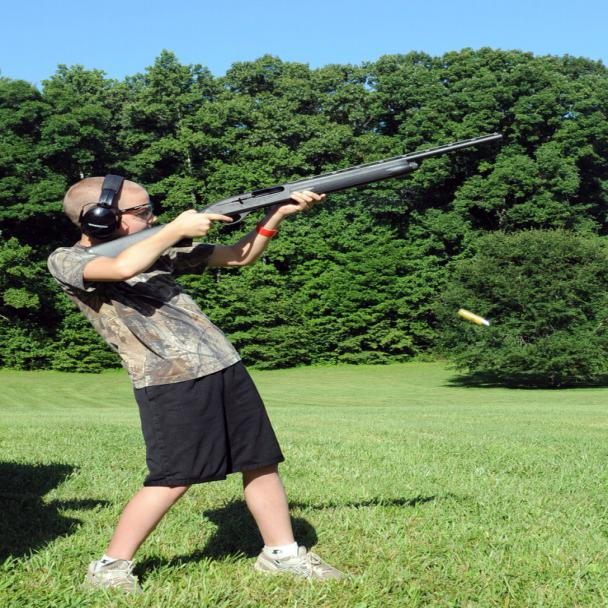Gun: (78, 116, 520, 281)
Hand: (92, 203, 230, 290), (230, 184, 323, 272)
